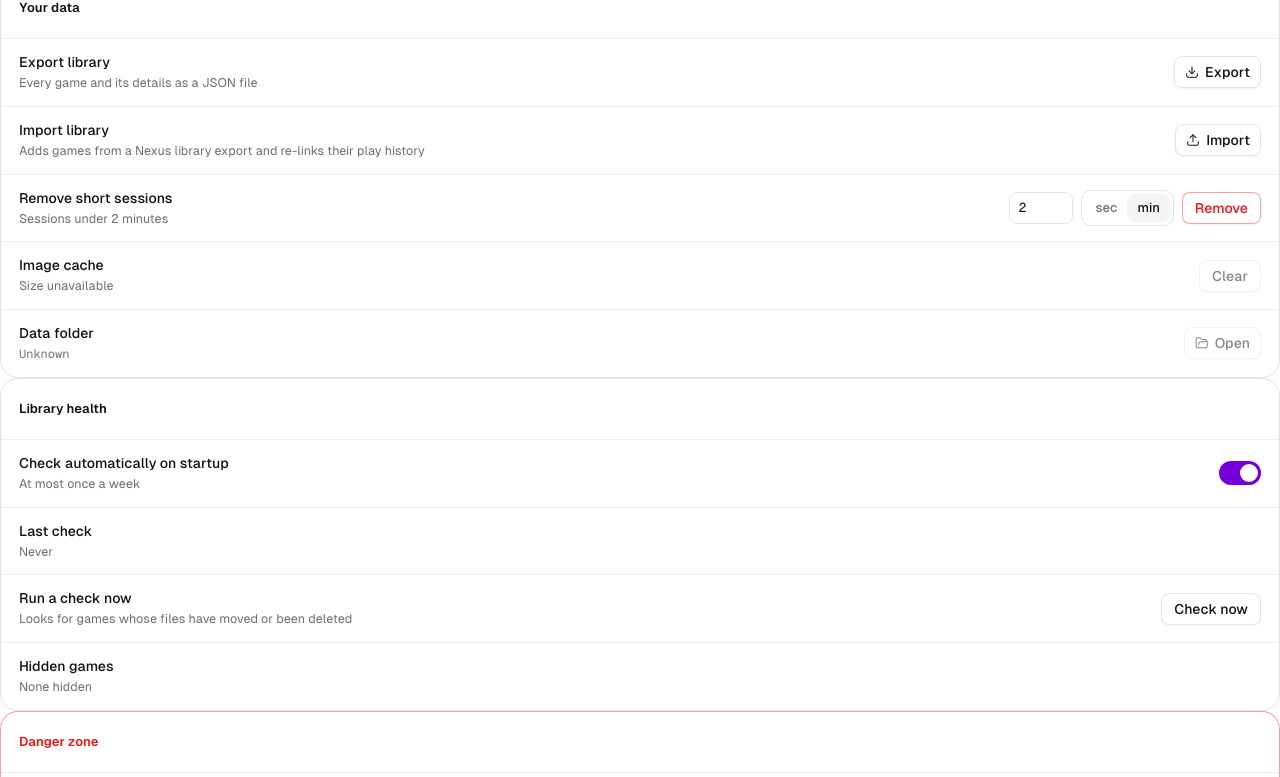
Test: v1 Data & health settings › remove all keeps the games it couldn't remove
Click the button with test id "run-health-check".
click(1211, 609)  # box 1161,593 -> 1261,625
(page scrolled)
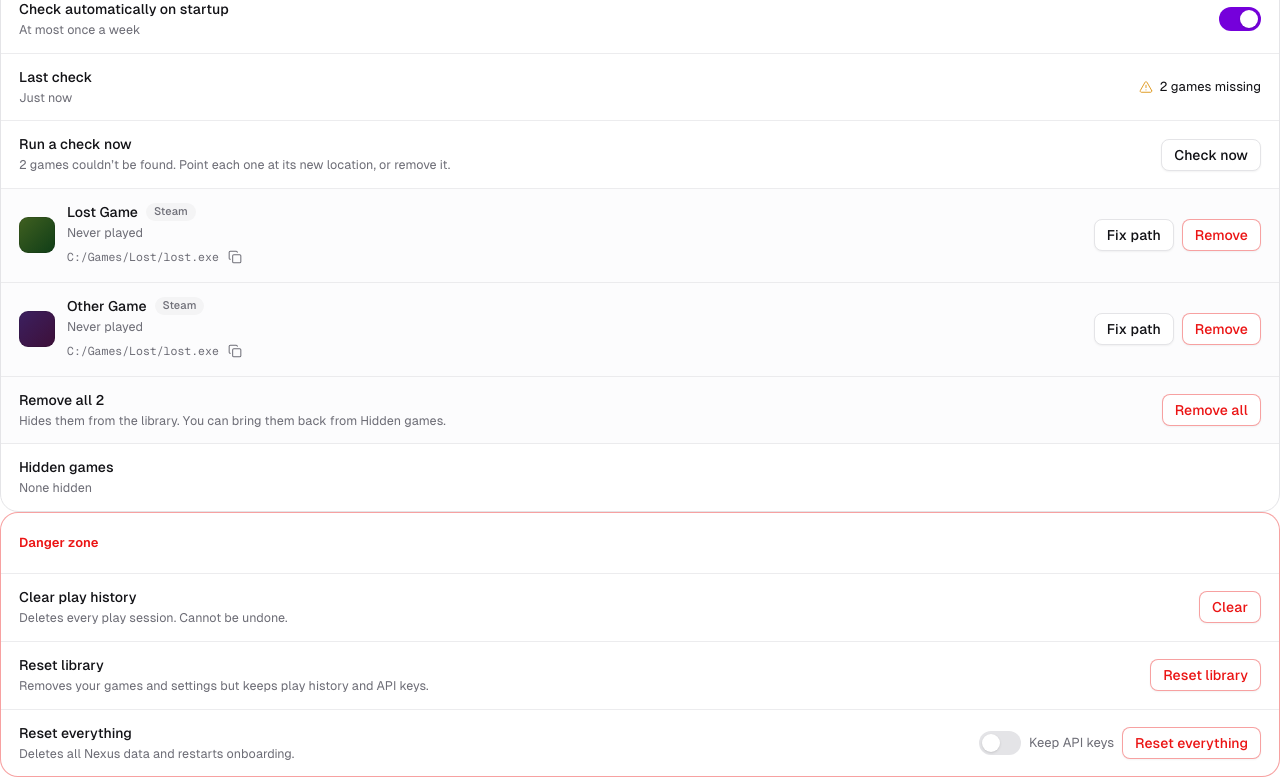
Click the button with test id "health-check-remove-all".
click(1211, 410)  # box 1162,394 -> 1261,426
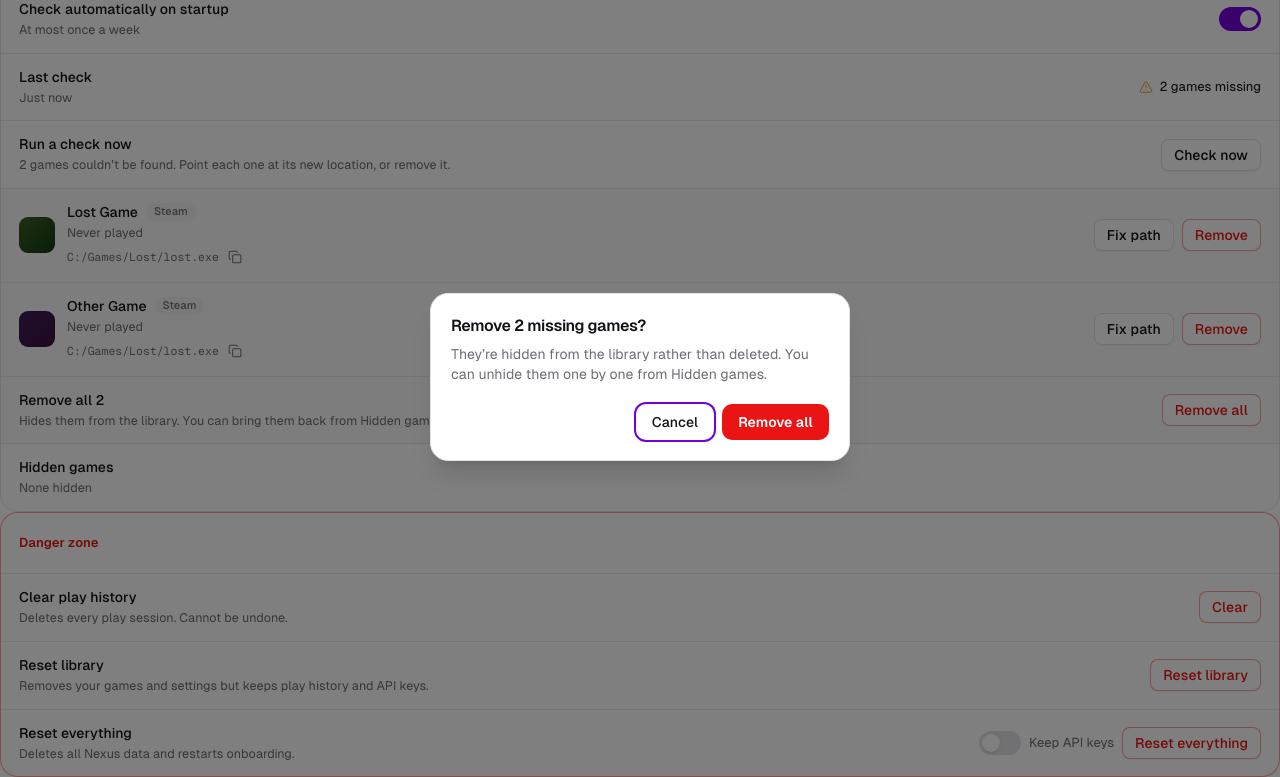
Click the button with test id "confirm-action".
click(776, 422)  # box 722,404 -> 829,440
(page scrolled)
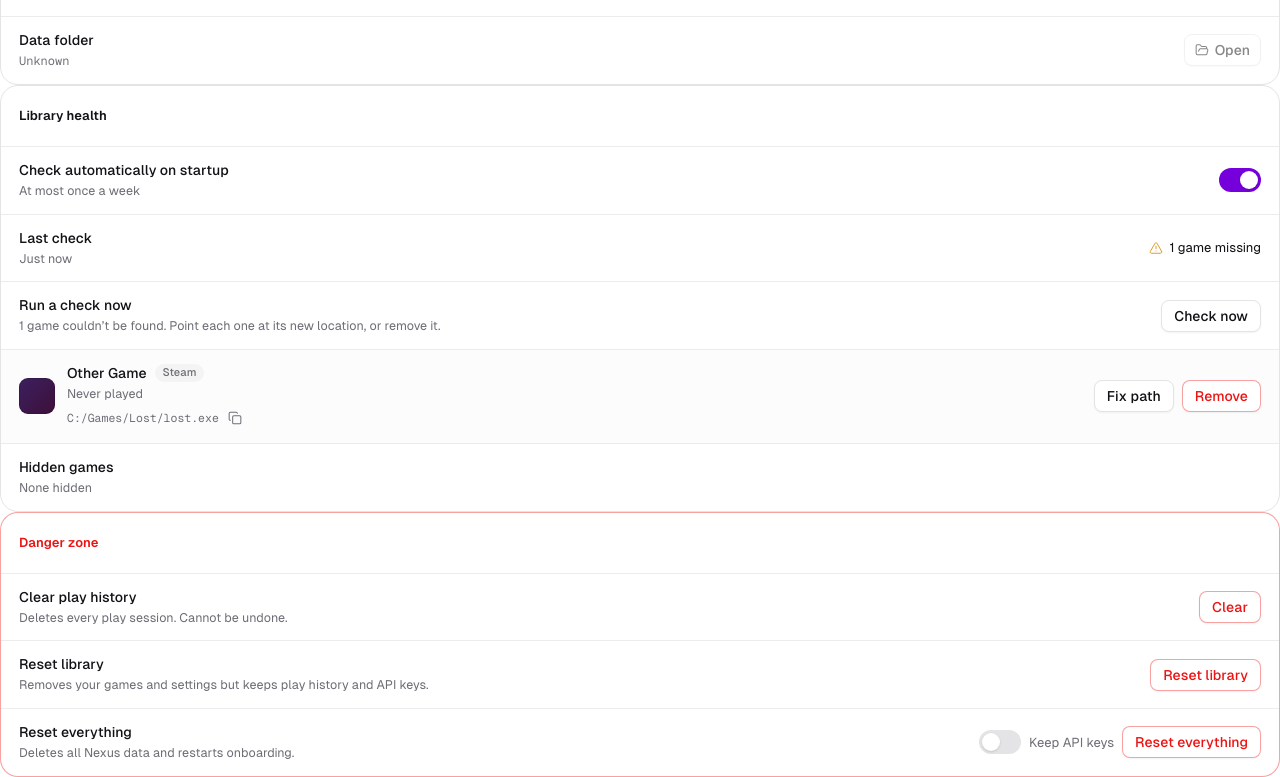
Result: the element with test id "dead-game-row-d2" is shown at 1,350 -> 1279,443
Result: the element with test id "dead-game-row-d1" is gone
